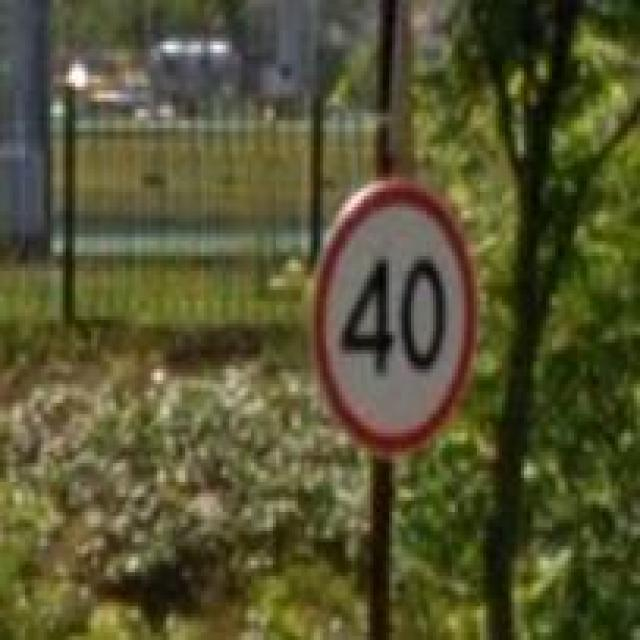Ograniczenie predkosci do 40: (310, 180, 477, 456)
